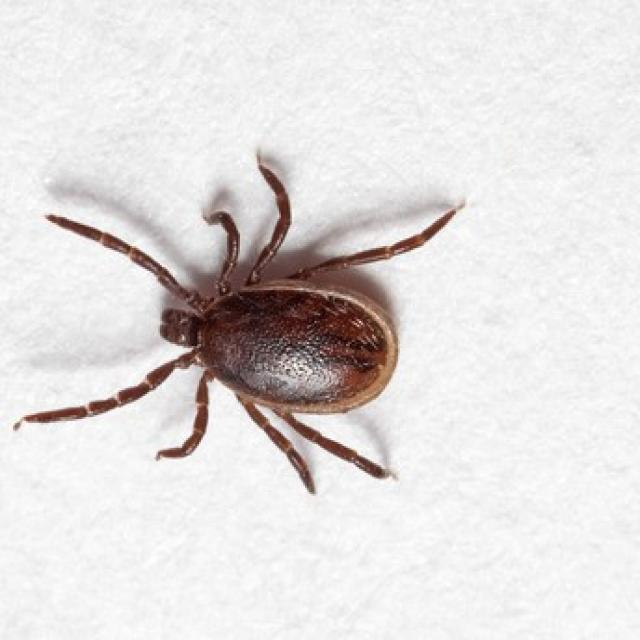Ixodes Ricinus-M: (13, 150, 465, 496)
